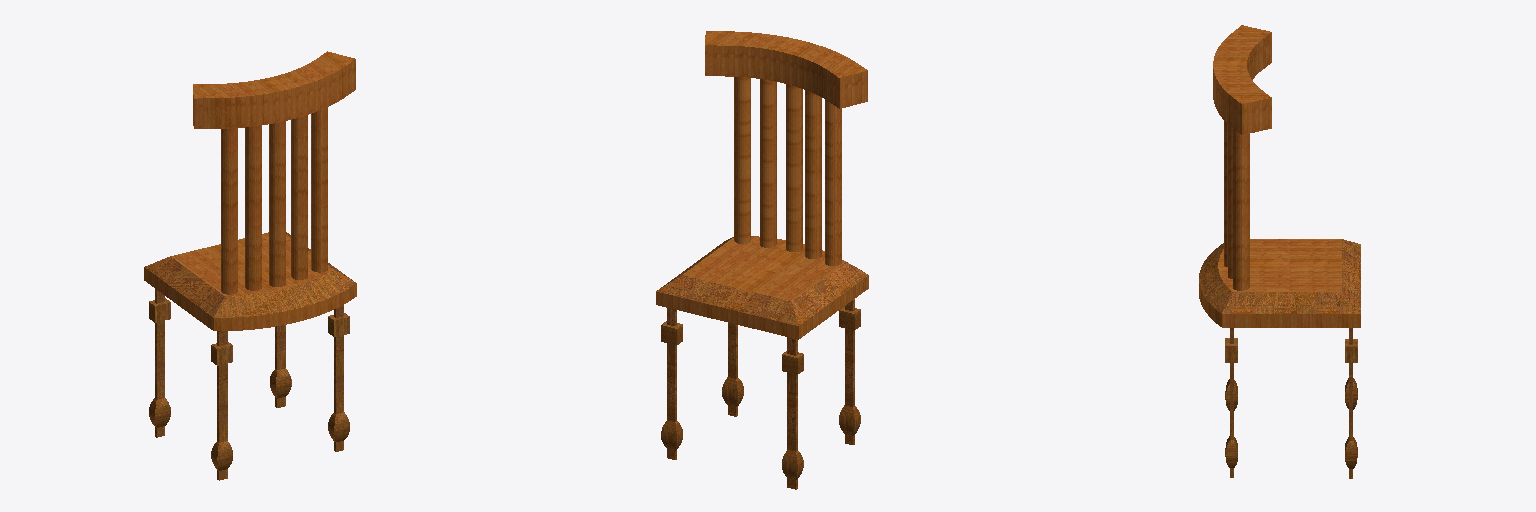
3 renders of one model, left to right at view 1: azimuth 30°, elevation 25°; view 2: azimuth 150°, elevation 25°; view 3: azimuth 270°, elevation 25°, orthographic.
Visible parts, largest first — view 1: mesh8_mesh8-geometry, mesh2_mesh2-geometry, mesh1_mesh1-geometry, mesh4_mesh4-geometry; view 2: mesh8_mesh8-geometry, mesh2_mesh2-geometry, mesh1_mesh1-geometry, mesh4_mesh4-geometry; view 3: mesh2_mesh2-geometry, mesh1_mesh1-geometry, mesh8_mesh8-geometry, mesh4_mesh4-geometry.
Boxes of the visible parts, <box> form: mesh8_mesh8-geometry: <box>221,107,327,294</box>; mesh2_mesh2-geometry: <box>144,232,356,330</box>; mesh1_mesh1-geometry: <box>193,51,355,128</box>; mesh4_mesh4-geometry: <box>149,289,349,480</box>; mesh8_mesh8-geometry: <box>734,77,841,265</box>; mesh2_mesh2-geometry: <box>656,236,868,339</box>; mesh1_mesh1-geometry: <box>705,31,867,108</box>; mesh4_mesh4-geometry: <box>661,299,860,489</box>; mesh2_mesh2-geometry: <box>1199,239,1360,327</box>; mesh1_mesh1-geometry: <box>1213,25,1271,134</box>; mesh8_mesh8-geometry: <box>1224,121,1249,290</box>; mesh4_mesh4-geometry: <box>1225,328,1357,478</box>.
Size of the model in its own units: 0.3834 by 0.862 by 0.3316.
Materials: 3 (2 with a texture image).